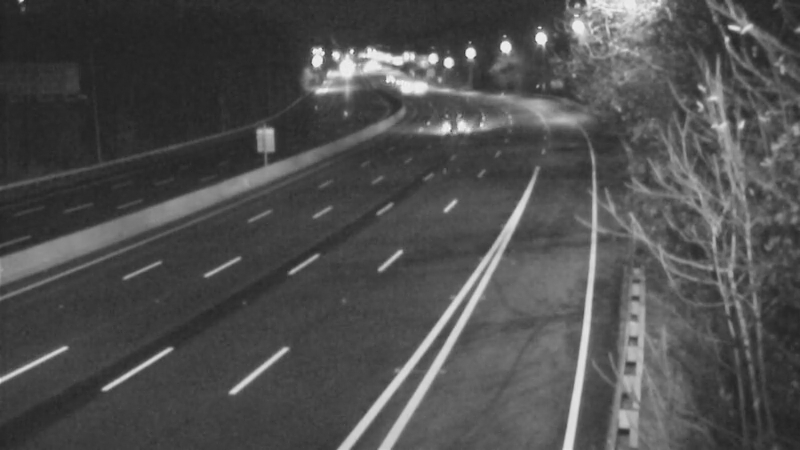vehicle: (366, 56, 416, 106), (376, 60, 426, 110), (393, 63, 443, 113), (431, 98, 481, 148)
